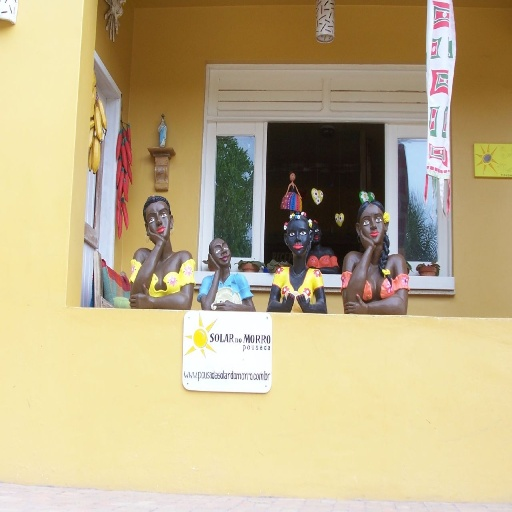hand: (127, 282, 152, 310), (144, 224, 166, 248), (343, 291, 367, 312), (204, 251, 221, 275), (279, 290, 296, 312), (359, 230, 376, 251), (296, 290, 312, 310), (211, 298, 236, 310)
